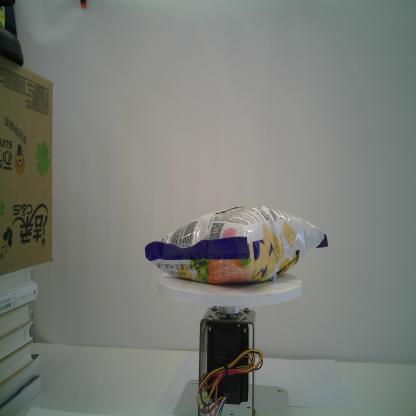Puffed Food: (144, 204, 330, 288)
